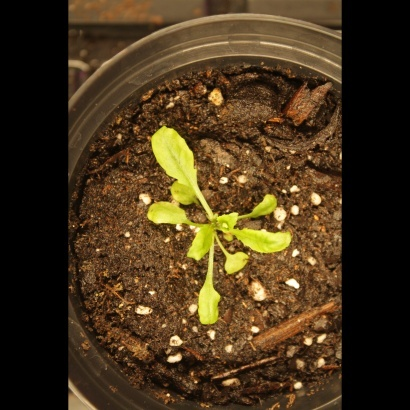leaf: (151, 123, 204, 193), (239, 225, 300, 264), (145, 196, 190, 233), (194, 273, 221, 333), (181, 226, 215, 268), (246, 190, 288, 222), (171, 174, 204, 208), (221, 248, 253, 280), (214, 211, 244, 235)
